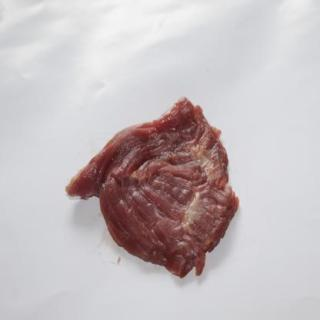Daging Sapi: (67, 100, 242, 280)
